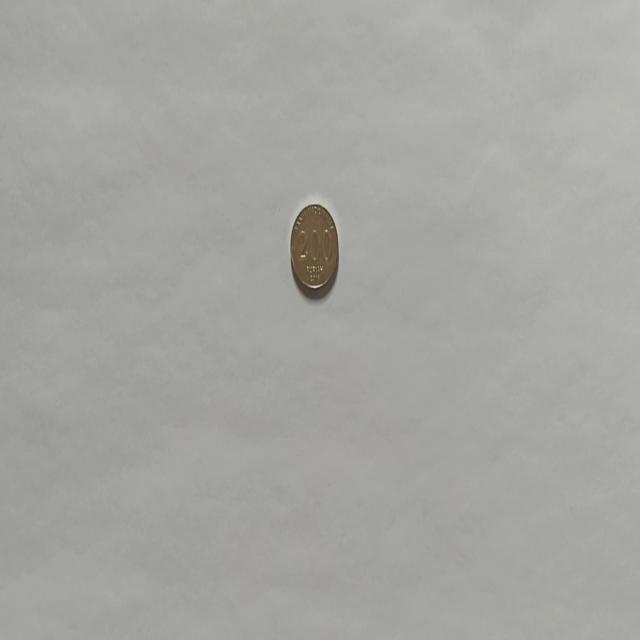dua ratus rupiah: (289, 200, 339, 294)
